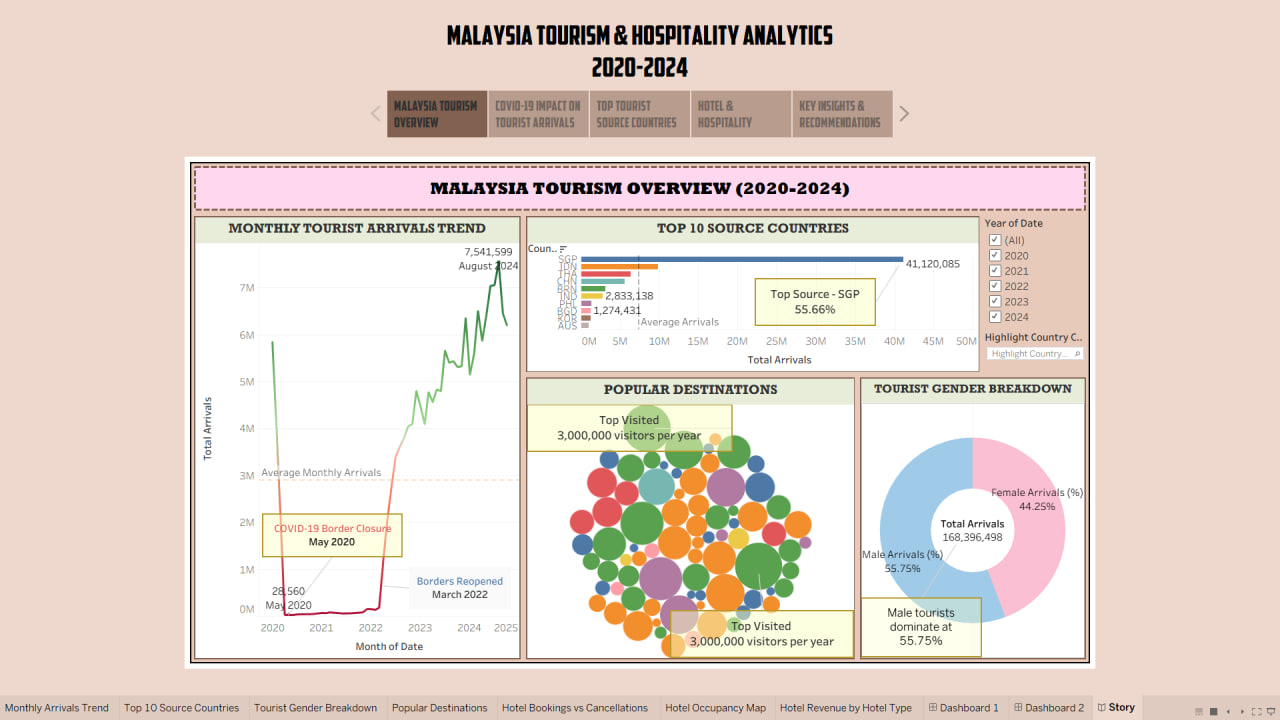

What the dashboard file says about the page in this screenshot:
{"tool":"tableau","page":{"name":"Dashboard 1 ","canvas":[1366,768],"ordinal":0},"visuals":[{"type":"text","box":[10,10,1346,74.6]},{"type":"worksheet","title":"Monthly Arrivals Trend","mark":"Line","rows":["Total Arrivals"],"cols":["Date"],"box":[10,84.6,497.5,673.4]},{"type":"worksheet","title":"Top 10 Source Countries","mark":"Automatic","rows":["Country Code"],"cols":["Total Arrivals"],"box":[507.5,84.6,688.9,242.7]},{"type":"filter","title":"Monthly Arrivals Trend","param":"[federated.1oa69s00xq2hpo1ey6c560xxsb4d].[yr:Date:ok]","box":[1196.5,84.6,159.5,171.4]},{"type":"highlighter","title":"Top 10 Source Countries","param":"[federated.1oa69s00xq2hpo1ey6c560xxsb4d].[none:Country Code:nk]","box":[1196.5,256,159.5,71.3]},{"type":"worksheet","title":"Popular Destinations","mark":"Circle","box":[507.5,327.3,501.9,430.7]},{"type":"worksheet","title":"Tourist Gender Breakdown","mark":"Pie","cols":["Calculation_1299690211151875","Calculation_1299690211172357"],"box":[1009.4,327.3,346.6,430.7]}]}

Visuals, with their boxes on the page's 1366x768 design canvas (x1, y1, x2, y2). These are canvas units, not pixel positions in the 1280x720 screenshot, which may show the page scaled, cropped or inside an application window:
text: (10, 10, 1356, 85)
"Monthly Arrivals Trend" worksheet (Line marks): (10, 85, 508, 758)
"Top 10 Source Countries" worksheet: (508, 85, 1196, 327)
"Monthly Arrivals Trend" filter: (1196, 85, 1356, 256)
"Top 10 Source Countries" highlighter: (1196, 256, 1356, 327)
"Popular Destinations" worksheet (Circle marks): (508, 327, 1009, 758)
"Tourist Gender Breakdown" worksheet (Pie marks): (1009, 327, 1356, 758)
